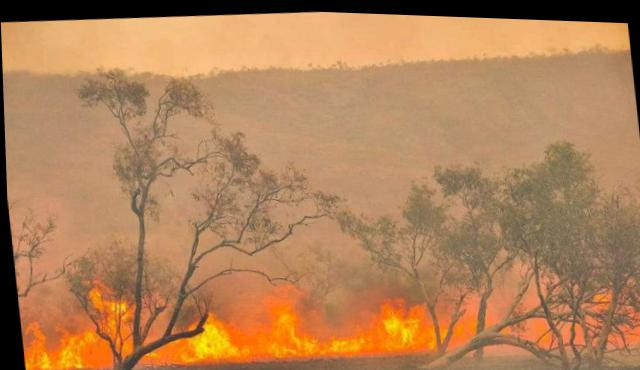fire: (14, 243, 485, 367)
